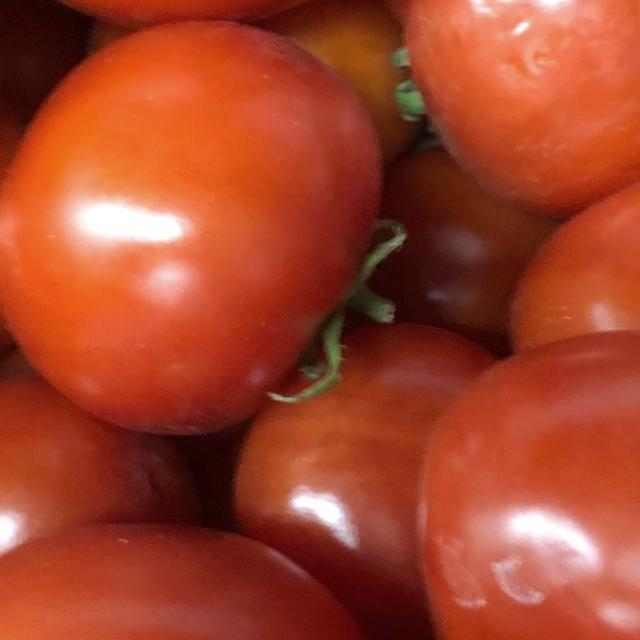tomato: (0, 0, 415, 447), (397, 315, 640, 640), (360, 0, 640, 217), (0, 500, 387, 640)
